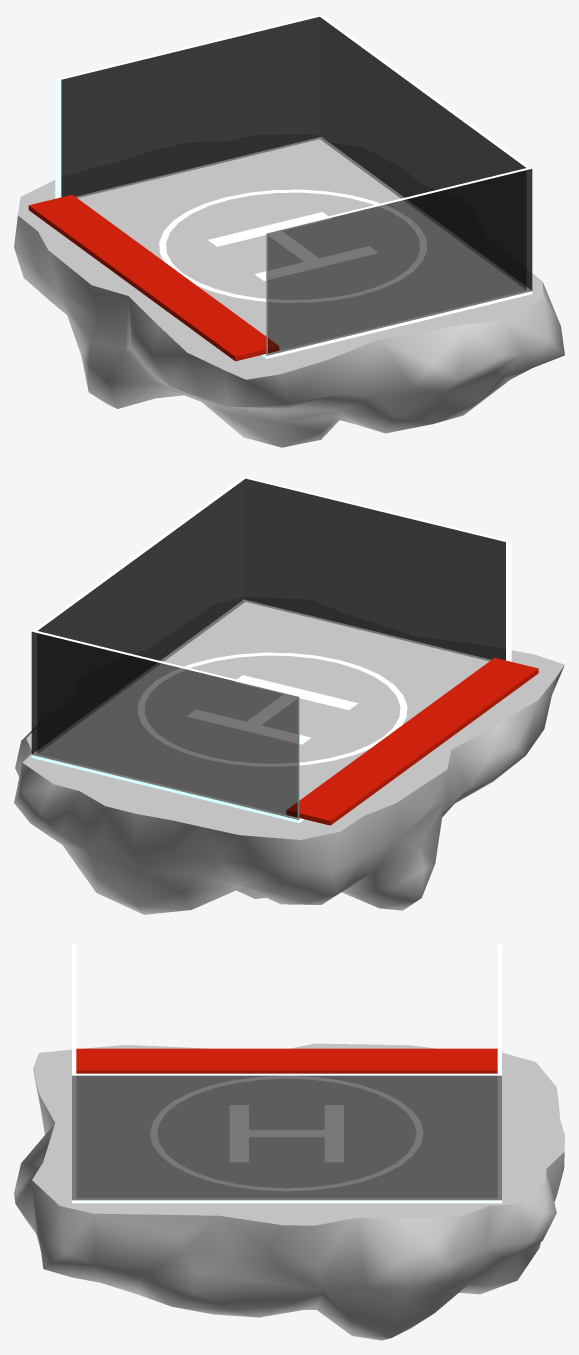
The model's file is Cloud (1).fbx.
The picture shows the model from 3 angles, top to bottom: view 1: azimuth 30°, elevation 25°; view 2: azimuth 150°, elevation 25°; view 3: azimuth 270°, elevation 25°; orthographic projection.
Visible parts, largest first — view 1: Stand, cloud, Jump; view 2: Stand, cloud, Jump; view 3: cloud, Stand, Jump.
Part boxes in pixels (x1,y1,x2,y2): Stand: (55,14,532,358); cloud: (14,134,564,447); Jump: (28,194,278,361); Stand: (31,476,511,822); cloud: (14,597,564,914); Jump: (286,657,538,825); cloud: (14,1043,564,1340); Stand: (72,943,501,1203); Jump: (76,1048,497,1073).
Bounding box in the file's own units: 861 × 635 × 1059.
